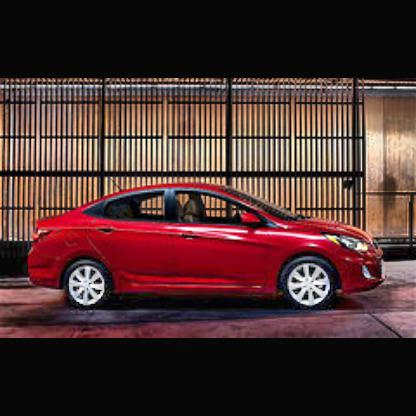Hyundai Accent Sedan 2012: (25, 183, 387, 318)
